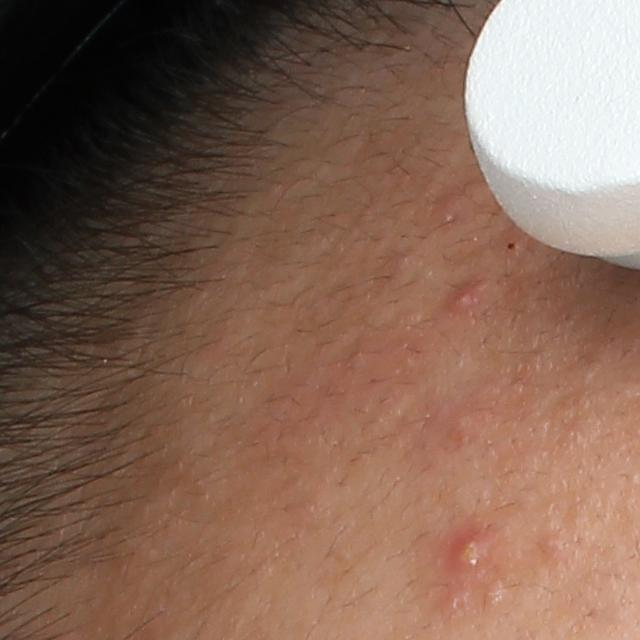papule: (449, 285, 480, 313)
pustule: (448, 531, 495, 575)
